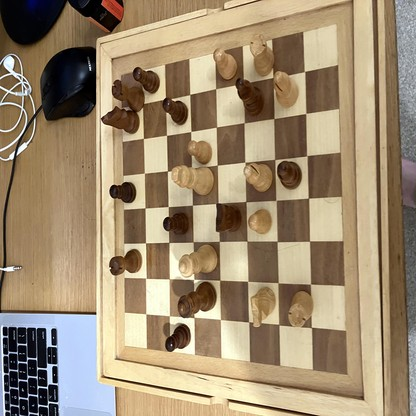bishop_black: (235, 79, 264, 113)
bishop_white: (274, 71, 300, 108), (244, 164, 272, 191)
king_white: (172, 165, 214, 195)
knight_black: (101, 107, 140, 134), (216, 201, 242, 231)
knight_white: (251, 288, 276, 327)
pawn_black: (134, 67, 160, 94), (278, 160, 302, 189), (166, 324, 191, 351), (164, 98, 188, 124), (109, 184, 137, 203), (163, 214, 188, 234)
pawn_white: (214, 49, 237, 79), (248, 210, 273, 235), (187, 140, 212, 163)
queen_black: (178, 282, 215, 319)
queen_white: (179, 245, 217, 277)
rock_black: (112, 80, 145, 110), (110, 249, 143, 274)
rock_white: (288, 291, 314, 328), (251, 34, 273, 75)
